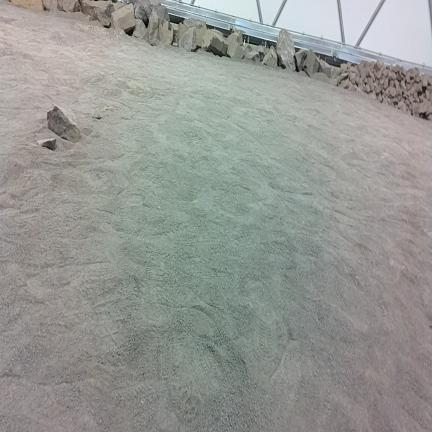Rock: (47, 106, 81, 142), (277, 29, 295, 71), (183, 19, 207, 47), (202, 30, 227, 56), (112, 4, 135, 32), (81, 0, 112, 20), (141, 0, 169, 21), (226, 33, 244, 60), (179, 27, 197, 51), (303, 49, 319, 76), (128, 0, 147, 21), (97, 4, 114, 27), (157, 20, 173, 44), (148, 12, 159, 45), (11, 0, 43, 10), (133, 19, 147, 40), (295, 49, 308, 71), (262, 49, 277, 68), (58, 0, 80, 12), (174, 23, 187, 42), (320, 60, 333, 78), (417, 100, 431, 116), (38, 138, 56, 150), (245, 51, 261, 64), (311, 72, 329, 83), (43, 0, 58, 11), (257, 46, 266, 60), (233, 29, 242, 43), (243, 44, 252, 56), (92, 109, 102, 119), (113, 2, 125, 10), (368, 77, 374, 91), (382, 77, 389, 89), (400, 80, 407, 92), (360, 66, 366, 79), (422, 77, 428, 89), (342, 80, 350, 89), (389, 87, 396, 97), (400, 103, 407, 113), (298, 71, 309, 77), (349, 72, 355, 83), (329, 79, 337, 85), (390, 72, 396, 80), (409, 95, 415, 103), (376, 70, 381, 79), (377, 93, 382, 102), (406, 72, 410, 82)
